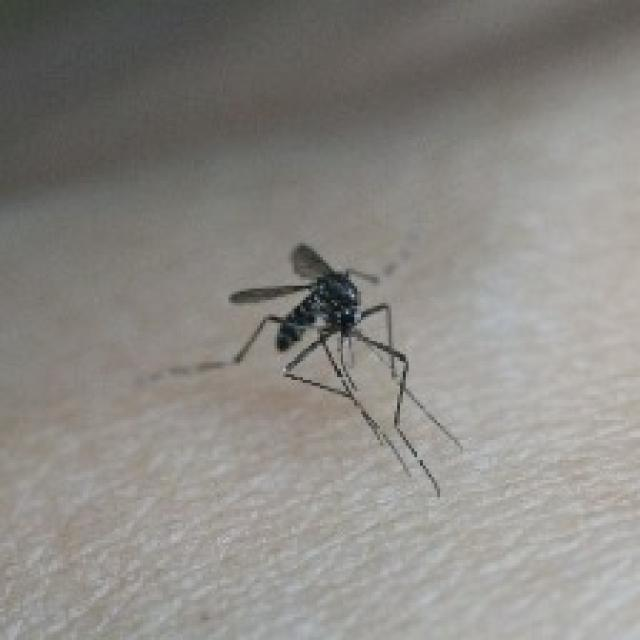aedes: (223, 240, 463, 497)
